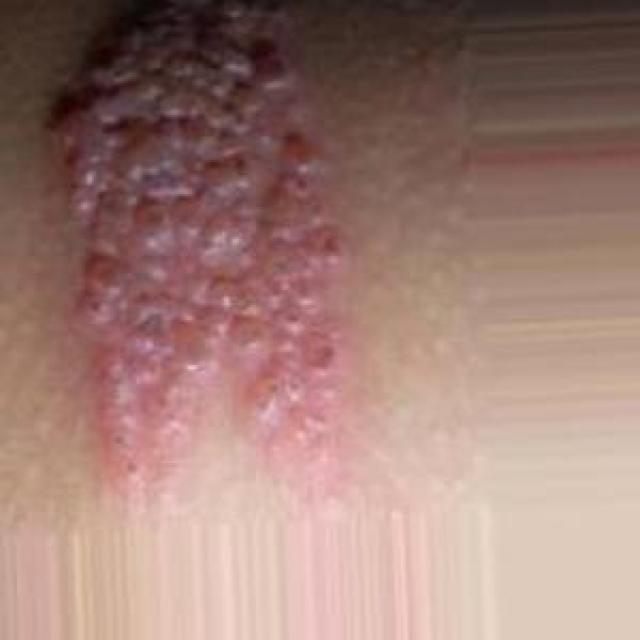Shingles: (48, 0, 353, 501)
